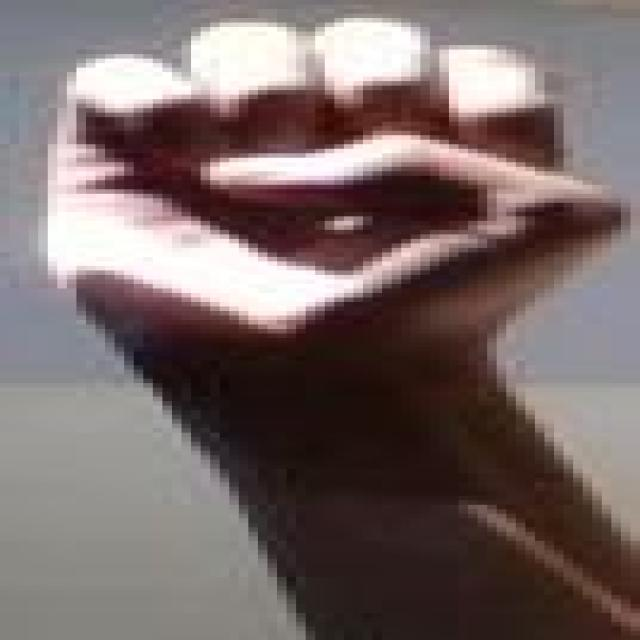E: (10, 4, 640, 362)
